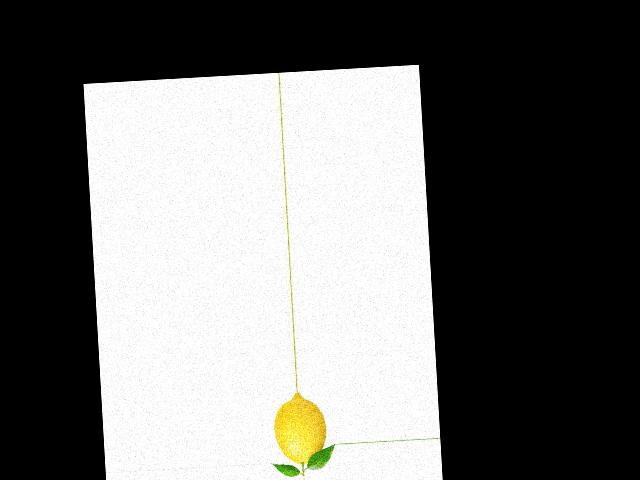lemon: (268, 391, 326, 471)
